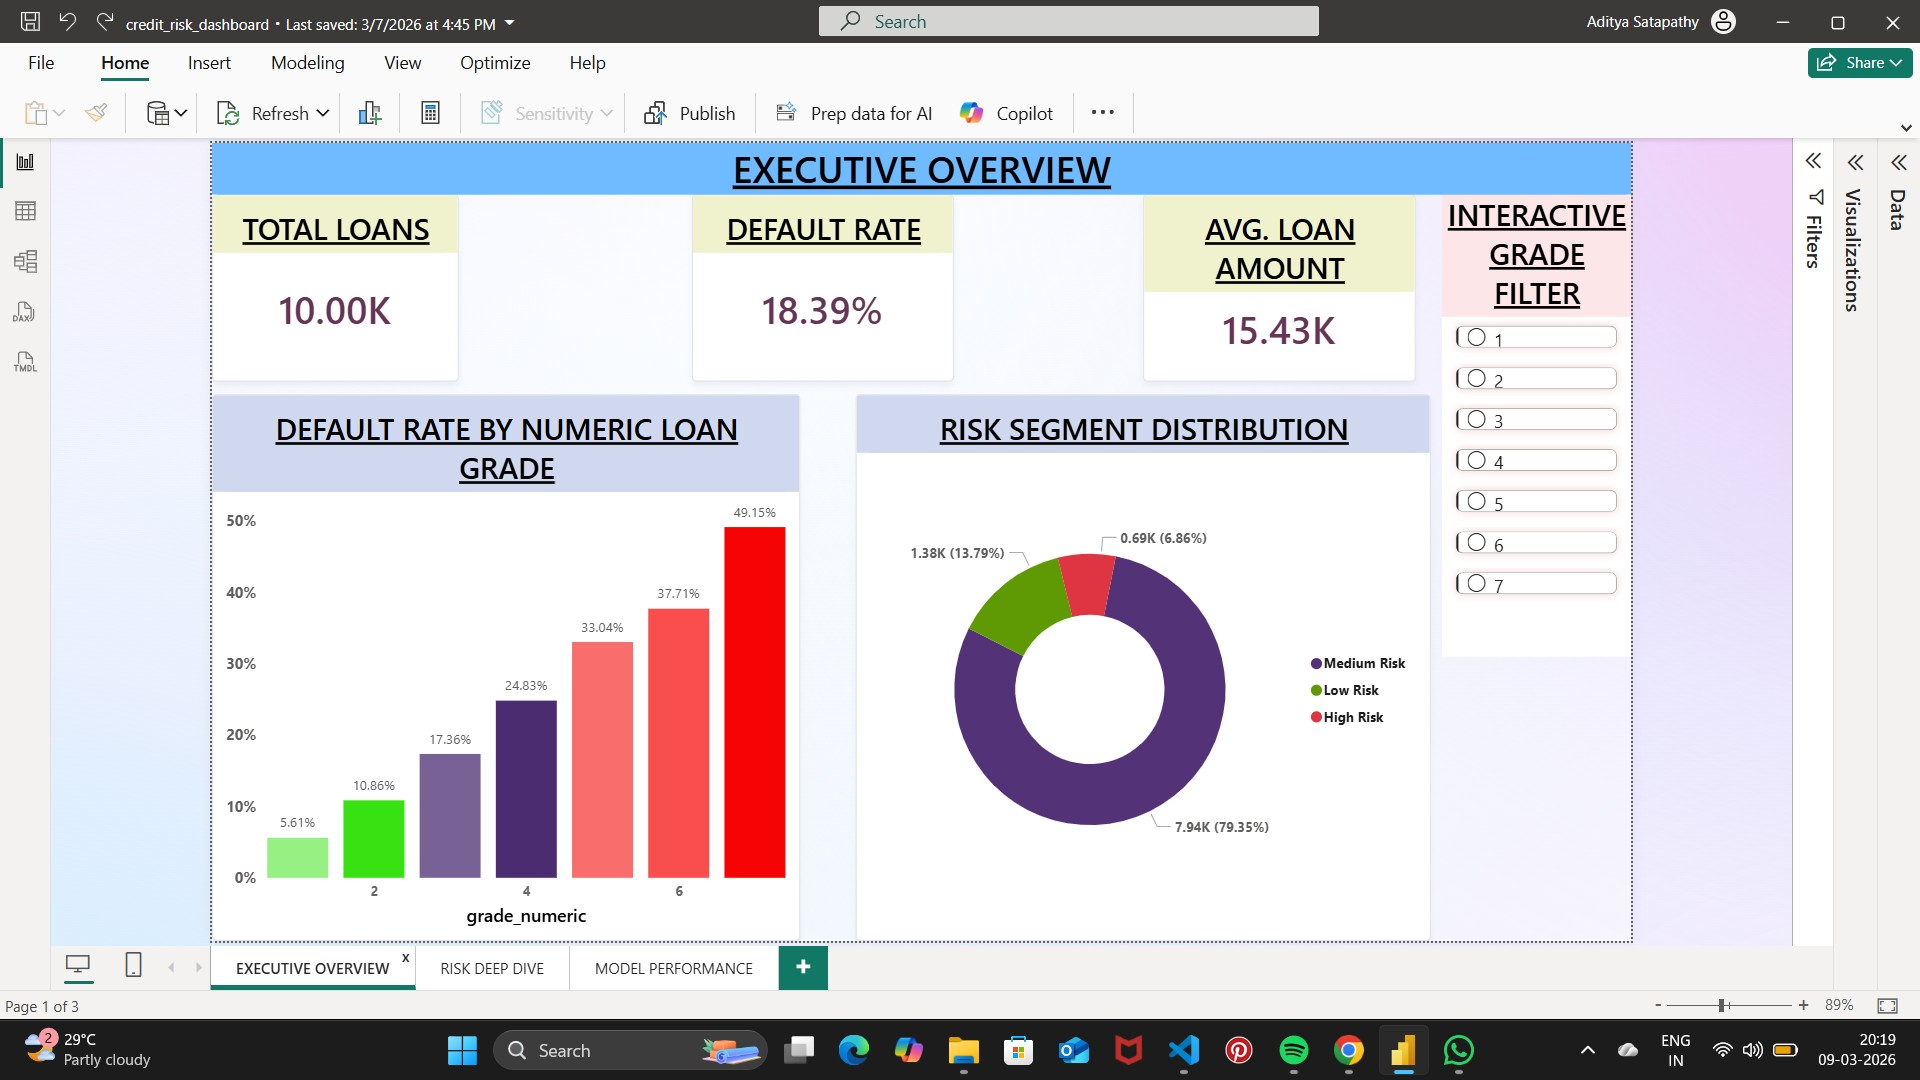

Layout of this report page (visuals, bound fields, positions):
{"tool":"powerbi","page":{"name":"EXECUTIVE OVERVIEW","canvas":[1280,720],"ordinal":0},"visuals":[{"type":"card","title":"TOTAL LOANS","fields":{"Values":["CountNonNull(dashboard_data.loan_amnt)"]},"box":[0,46.5,222.1,168.6],"z":0},{"type":"card","title":"DEFAULT RATE","fields":{"Values":["Avg(dashboard_data.is_default)"]},"box":[432.6,46.5,236,168.6],"z":1000},{"type":"card","title":"AVG. LOAN AMOUNT","fields":{"Values":["Avg(dashboard_data.loan_amnt)"]},"box":[839.5,46.5,245.3,168.6],"z":2000},{"type":"clusteredColumnChart","title":"DEFAULT RATE BY NUMERIC LOAN GRADE ","fields":{"Category":["dashboard_data.grade_numeric"],"Y":["Avg(dashboard_data.is_default)"]},"box":[0,226.7,530.2,493],"z":3000},{"type":"donutChart","title":"RISK SEGMENT DISTRIBUTION","fields":{"Category":["dashboard_data.risk_segment"],"Y":["CountNonNull(dashboard_data.loan_amnt)"]},"box":[580.2,226.7,518.6,493],"z":4000},{"type":"listSlicer","title":"INTERACTIVE  GRADE FILTER","fields":{"Values":["dashboard_data.grade_numeric"]},"box":[1109.1,46.2,171.3,417],"z":5000},{"type":"textbox","title":"EXECUTIVE OVERVIEW","box":[0,0,1280.2,46.5],"z":6000}]}

Visuals, with their boxes on the page's 1280x720 design canvas (x1, y1, x2, y2). These are canvas units, not pixel positions in the 1920x1080 screenshot, which may show the page scaled, cropped or inside an application window:
"TOTAL LOANS" card: bbox=[0, 46, 222, 215]
"DEFAULT RATE" card: bbox=[433, 46, 669, 215]
"AVG. LOAN AMOUNT" card: bbox=[840, 46, 1085, 215]
"DEFAULT RATE BY NUMERIC LOAN GRADE " clusteredColumnChart: bbox=[0, 227, 530, 720]
"RISK SEGMENT DISTRIBUTION" donutChart: bbox=[580, 227, 1099, 720]
"INTERACTIVE  GRADE FILTER" listSlicer: bbox=[1109, 46, 1280, 463]
"EXECUTIVE OVERVIEW" textbox: bbox=[0, 0, 1280, 46]
